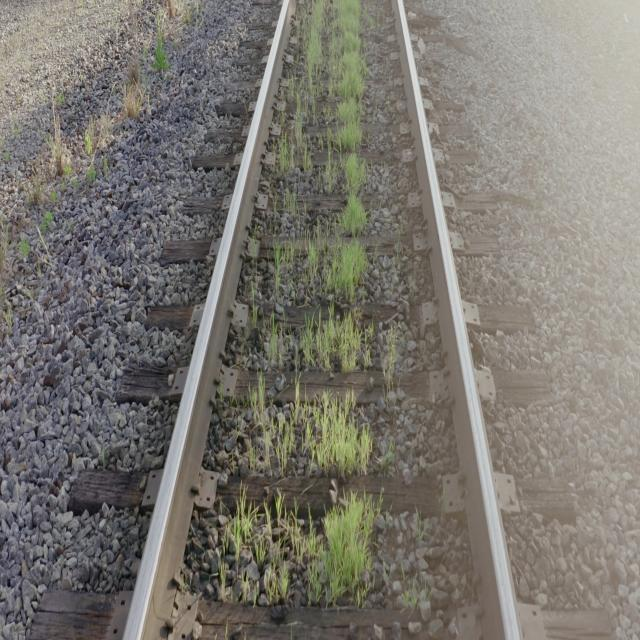Plant: (274, 0, 371, 373), (211, 496, 379, 604), (250, 384, 372, 478), (269, 320, 279, 362), (286, 193, 299, 213)
